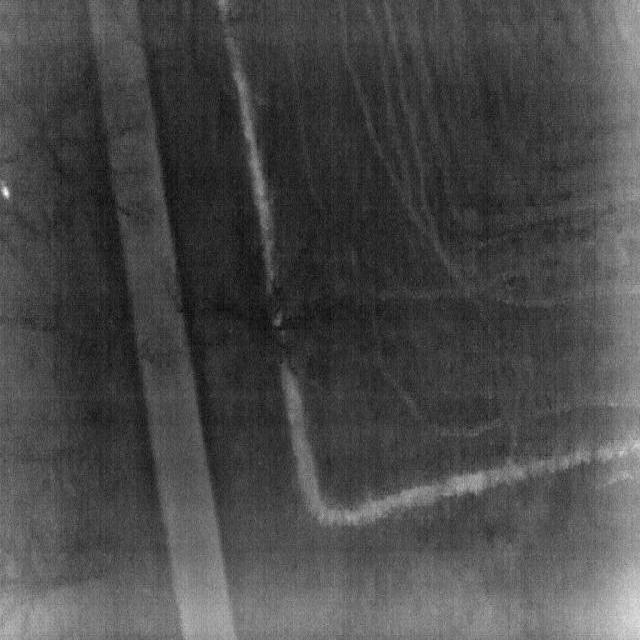deer: (0, 179, 12, 202)
